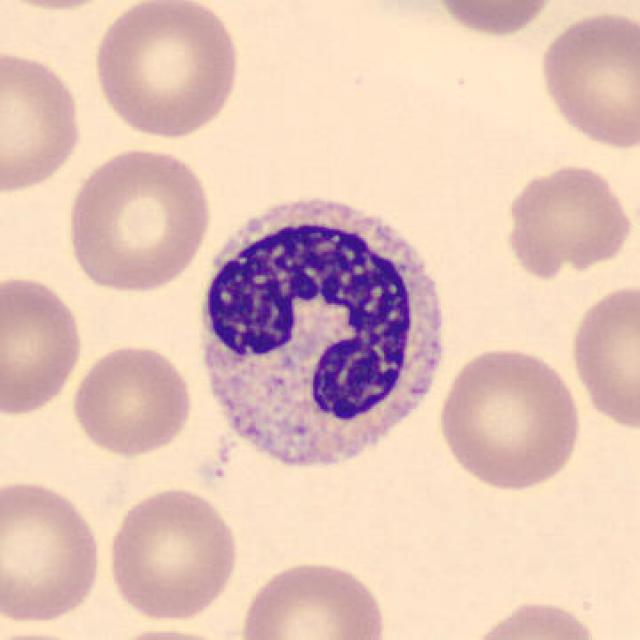Neutrophil: (186, 181, 458, 492)
RBC: (62, 143, 215, 296), (434, 342, 585, 494), (87, 0, 245, 141), (103, 483, 244, 624), (500, 158, 634, 278), (0, 476, 105, 626), (68, 340, 196, 460), (534, 7, 638, 153), (0, 44, 87, 198), (237, 555, 391, 640), (0, 270, 87, 418), (567, 279, 638, 432), (461, 594, 606, 640), (426, 0, 562, 39), (101, 624, 240, 640), (0, 0, 130, 14), (0, 626, 100, 640)
